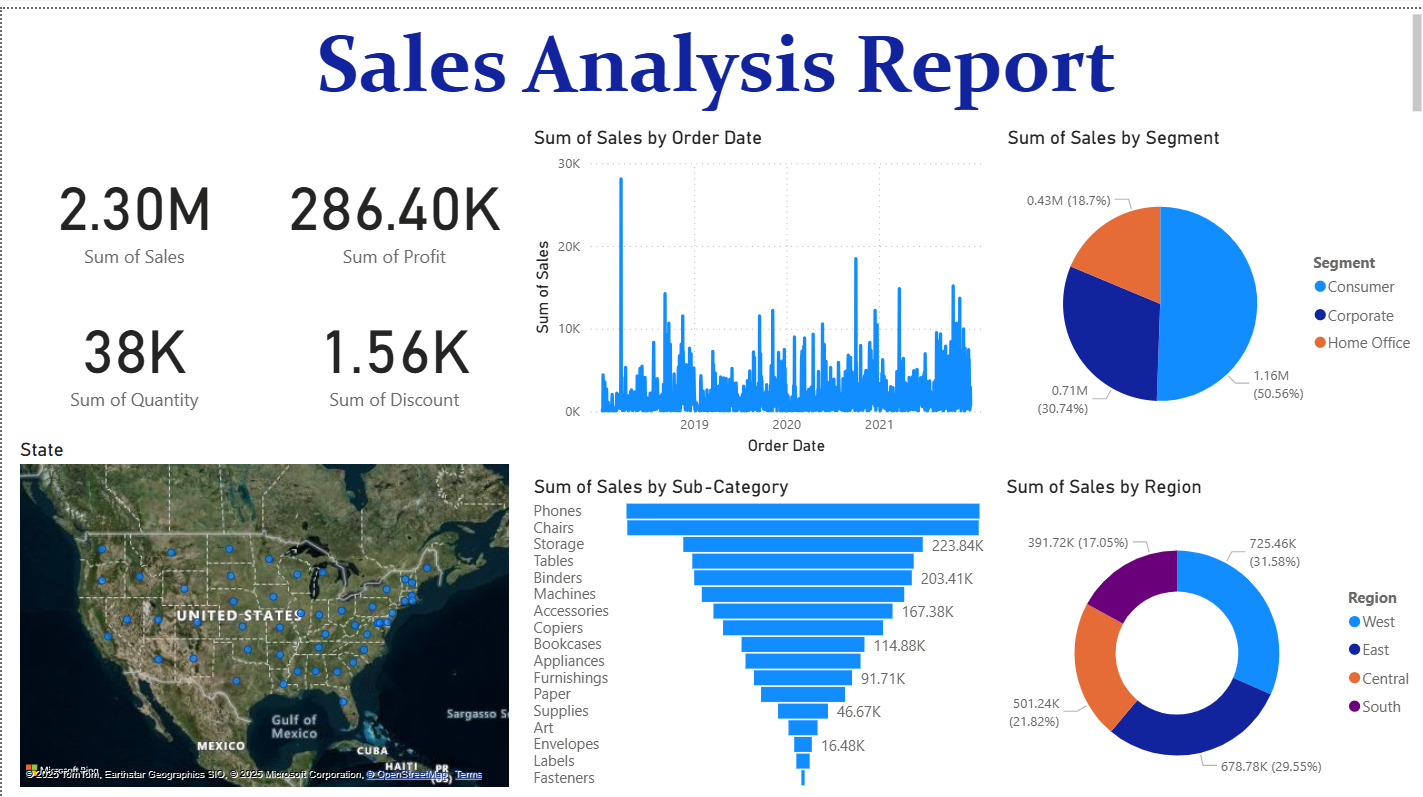

The page's visual inventory and layout, read from the dashboard file:
{"tool":"powerbi","page":{"name":"Dashboard","canvas":[1280,720],"ordinal":0},"visuals":[{"type":"donutChart","fields":{"Category":["Orders.Region"],"Y":["Sum(Orders.Sales)"]},"box":[898.8,419.5,381.7,300],"z":0},{"type":"funnel","fields":{"Category":["Orders.Sub-Category"],"Y":["Sum(Orders.Sales)"]},"box":[473.2,419.5,415.9,285.4],"z":1},{"type":"map","fields":{"Category":["Orders.State"]},"box":[11,385.4,450,318.3],"z":2},{"type":"pieChart","fields":{"Category":["Orders.Segment"],"Y":["Sum(Orders.Sales)"]},"box":[898.8,106.1,381.7,300],"z":3},{"type":"lineChart","fields":{"Category":["Orders.Order Date"],"Y":["Sum(Orders.Sales)"]},"box":[473.2,106.1,415.9,300],"z":4},{"type":"card","fields":{"Values":["Sum(Orders.Sales)"]},"box":[11,124.4,215.9,118.3],"z":5},{"type":"card","fields":{"Values":["Sum(Orders.Profit)"]},"box":[245.1,124.4,215.9,118.3],"z":6},{"type":"card","fields":{"Values":["Sum(Orders.Quantity)"]},"box":[11,256.1,215.9,112.2],"z":7},{"type":"card","fields":{"Values":["Sum(Orders.Discount)"]},"box":[245.1,256.1,215.9,112.2],"z":8},{"type":"textbox","box":[11,0,1269.5,97.6],"z":9}]}

Visuals, with their boxes in screenshot pixels (x1, y1, x2, y2), scaled from the page's 1280x720 canvas onto the 1423x797 screenshot:
donutChart - Orders.Region x Sum(Orders.Sales): l=999, t=464, r=1422, b=796
funnel - Orders.Sub-Category x Sum(Orders.Sales): l=526, t=464, r=988, b=780
map - Orders.State: l=12, t=427, r=513, b=779
pieChart - Orders.Segment x Sum(Orders.Sales): l=999, t=117, r=1422, b=450
lineChart - Orders.Order Date x Sum(Orders.Sales): l=526, t=117, r=988, b=450
card - Sum(Orders.Sales): l=12, t=138, r=252, b=269
card - Sum(Orders.Profit): l=272, t=138, r=513, b=269
card - Sum(Orders.Quantity): l=12, t=283, r=252, b=408
card - Sum(Orders.Discount): l=272, t=283, r=513, b=408
textbox: l=12, t=0, r=1422, b=108
